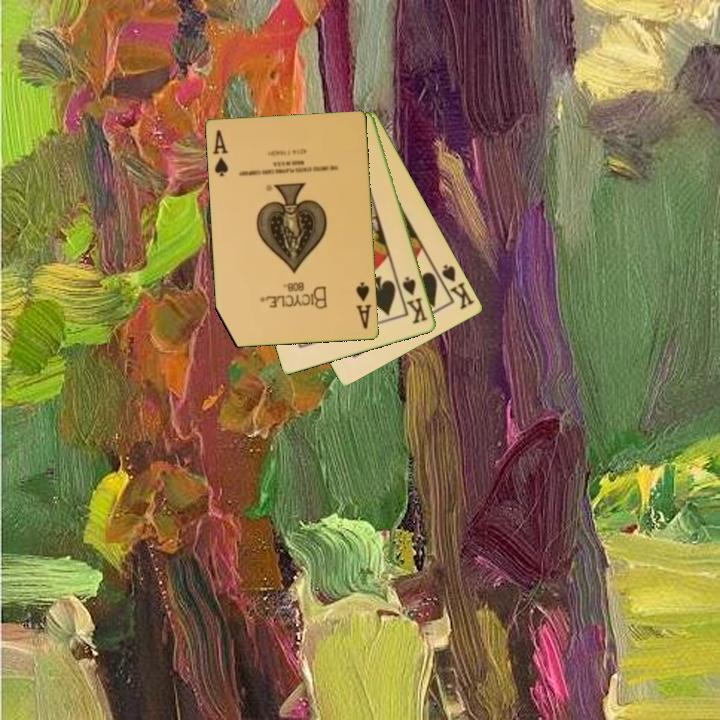As: (209, 126, 231, 179), (353, 279, 374, 332)
Ks: (433, 261, 478, 313), (399, 273, 431, 327)
